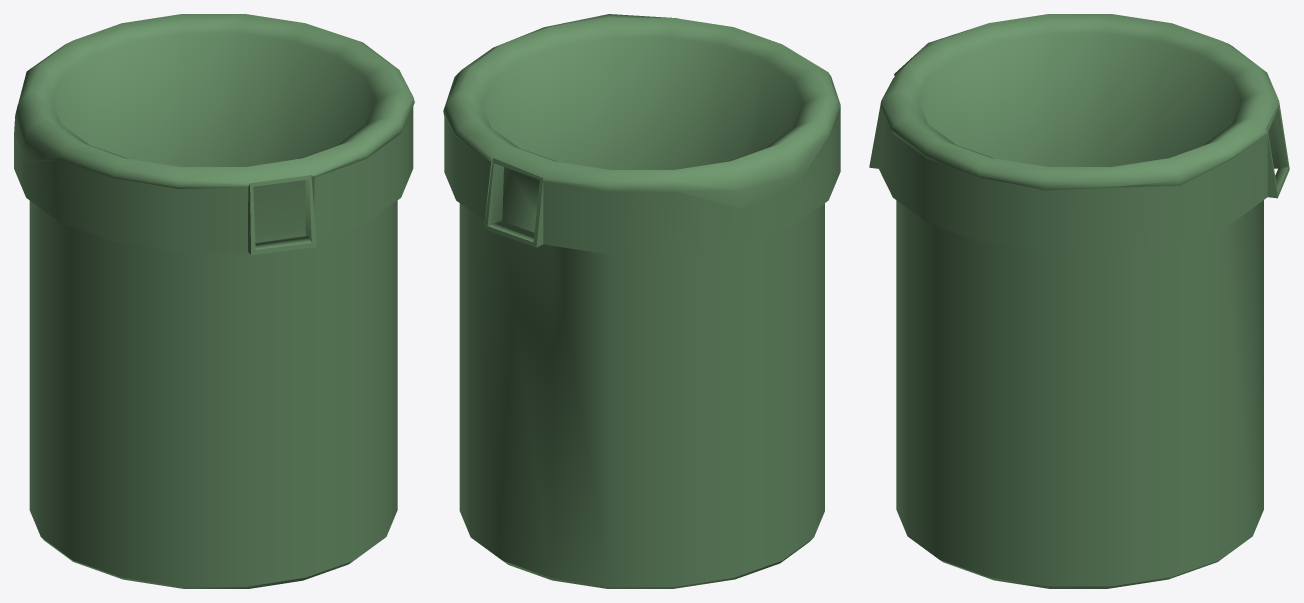
The model's file is SM_TrashBig.fbx.
3 views of the same model, side by side, from view 1: azimuth 30°, elevation 25°; view 2: azimuth 150°, elevation 25°; view 3: azimuth 270°, elevation 25° (orthographic).
Visible parts, largest first — view 1: SM_TrashBig; view 2: SM_TrashBig; view 3: SM_TrashBig.
Boxes of the visible parts, <box> form: SM_TrashBig: <box>14,14,414,588</box>; SM_TrashBig: <box>443,14,840,588</box>; SM_TrashBig: <box>869,14,1289,588</box>.
Size of the model in its own units: 74.12 by 87.58 by 78.85.
